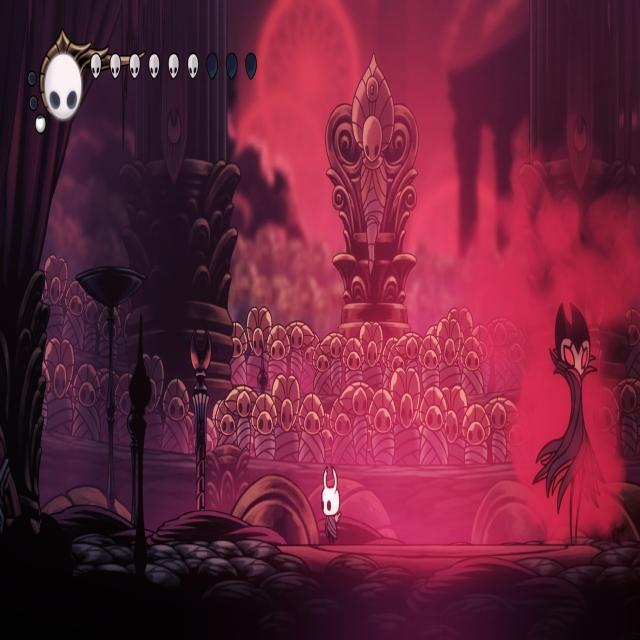Grimm: (529, 296, 613, 545)
Player: (318, 459, 343, 546)
